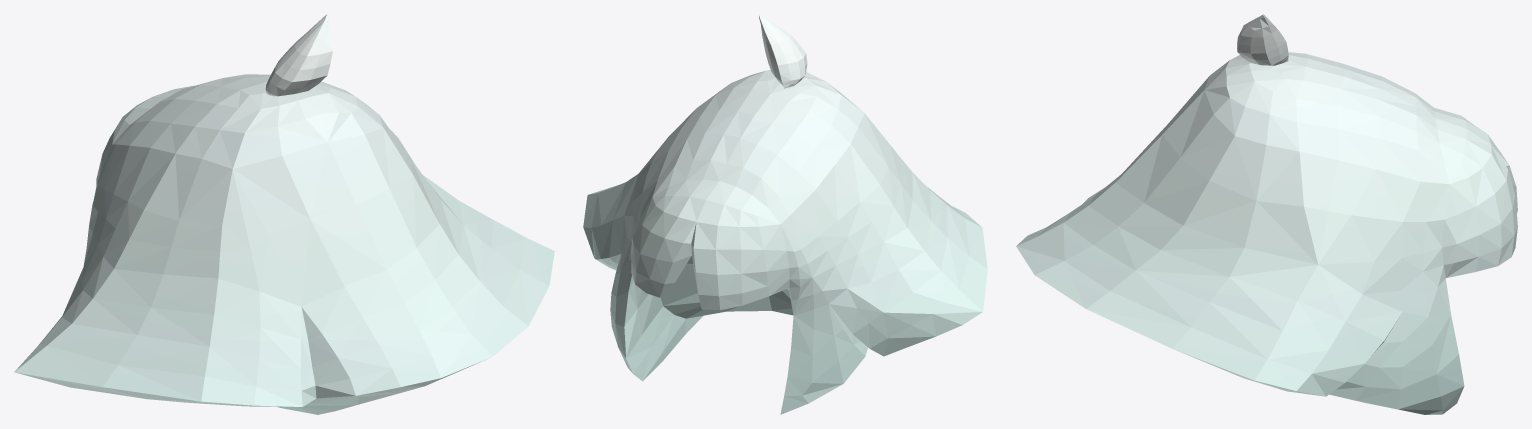
File: CharSkyKid_Hair_ShortBob.glb
3 views of the same model, side by side, from view 1: azimuth 30°, elevation 25°; view 2: azimuth 150°, elevation 25°; view 3: azimuth 270°, elevation 25° (orthographic). The views are drawn at different scales.
Visible parts, largest first — view 1: CharSkyKid_Hair_ShortBob; view 2: CharSkyKid_Hair_ShortBob; view 3: CharSkyKid_Hair_ShortBob.
Boxes of the visible parts, x1,y1,x2,y2 form: CharSkyKid_Hair_ShortBob: (14, 14, 554, 414); CharSkyKid_Hair_ShortBob: (583, 14, 987, 414); CharSkyKid_Hair_ShortBob: (1016, 14, 1517, 414).
Size of the model in its own units: 5.34 by 4 by 4.81.
1 material, 1 textured.
